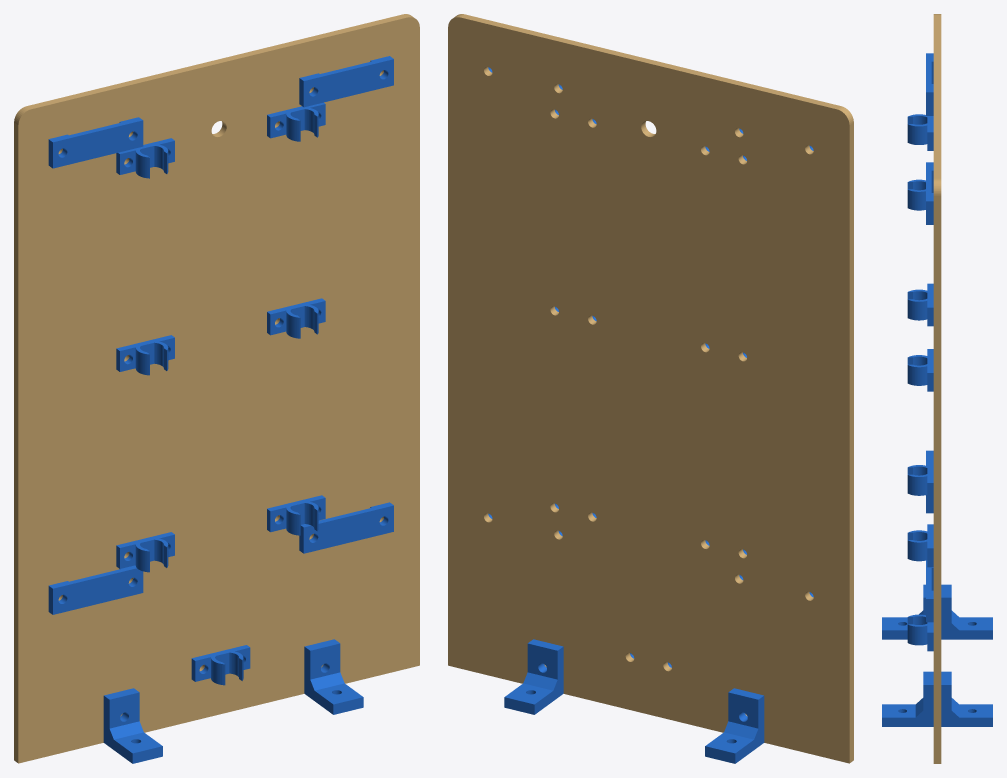
Rendered from m12_baugruppe.glb.
3 renders of one model, left to right at view 1: azimuth 30°, elevation 25°; view 2: azimuth 150°, elevation 25°; view 3: azimuth 270°, elevation 25°, orthographic. The views are drawn at different scales.
Parts seen in each view (by area): view 1: M12-P01_1, M12-P05_3, M12-P05_4, M12-P03_3, M12-P03_4, M12-P03_1, M12-P03_2, M12-P02_7, M12-P02_4, M12-P02_2, M12-P02_1, M12-P02_3 (+2 smaller); view 2: M12-P01_1, M12-P05_1, M12-P05_2; view 3: M12-P01_1, M12-P05_1, M12-P05_2, M12-P05_4, M12-P02_3, M12-P02_2, M12-P02_1, M12-P02_4, M12-P02_5, M12-P02_7, M12-P05_3, M12-P02_6 (+3 smaller).
Part boxes in pixels (<box>): M12-P01_1: <box>14,14,419,763</box>; M12-P05_3: <box>103,688,162,763</box>; M12-P05_4: <box>304,639,363,714</box>; M12-P03_3: <box>48,117,143,168</box>; M12-P03_4: <box>299,56,393,107</box>; M12-P03_1: <box>48,565,143,614</box>; M12-P03_2: <box>299,502,393,553</box>; M12-P02_7: <box>191,645,250,685</box>; M12-P02_4: <box>267,298,325,338</box>; M12-P02_2: <box>267,495,325,535</box>; M12-P02_1: <box>116,532,174,572</box>; M12-P02_3: <box>116,335,174,375</box>; M12-P01_1: <box>448,14,853,763</box>; M12-P05_1: <box>705,688,764,763</box>; M12-P05_2: <box>504,639,563,714</box>; M12-P01_1: <box>933,14,941,763</box>; M12-P05_1: <box>941,584,992,639</box>; M12-P05_2: <box>941,671,992,726</box>; M12-P05_4: <box>882,671,933,726</box>; M12-P02_3: <box>907,283,933,326</box>; M12-P02_2: <box>907,524,933,567</box>; M12-P02_1: <box>907,459,933,501</box>; M12-P02_4: <box>907,349,933,391</box>; M12-P02_5: <box>907,114,933,150</box>; M12-P02_7: <box>907,614,933,651</box>; M12-P05_3: <box>882,584,925,639</box>; M12-P02_6: <box>907,179,925,210</box>.
Size of the model in its own units: 160 by 248 by 43.
